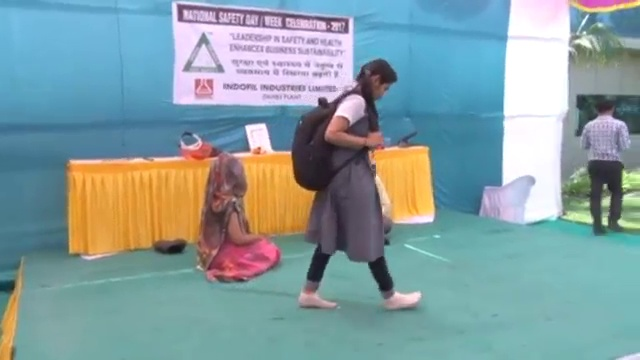helmet_off: (357, 57, 397, 102), (207, 154, 249, 195), (593, 97, 617, 117)
person: (295, 56, 422, 312), (195, 155, 282, 285), (579, 97, 631, 234)
